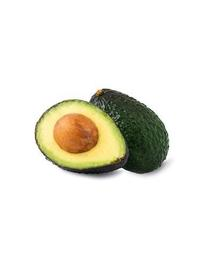avocado: (35, 99, 129, 175), (89, 89, 170, 175)
